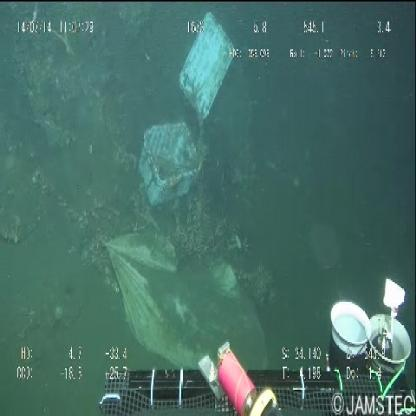Rov: (89, 277, 416, 416)
Rác: (134, 9, 240, 214)
